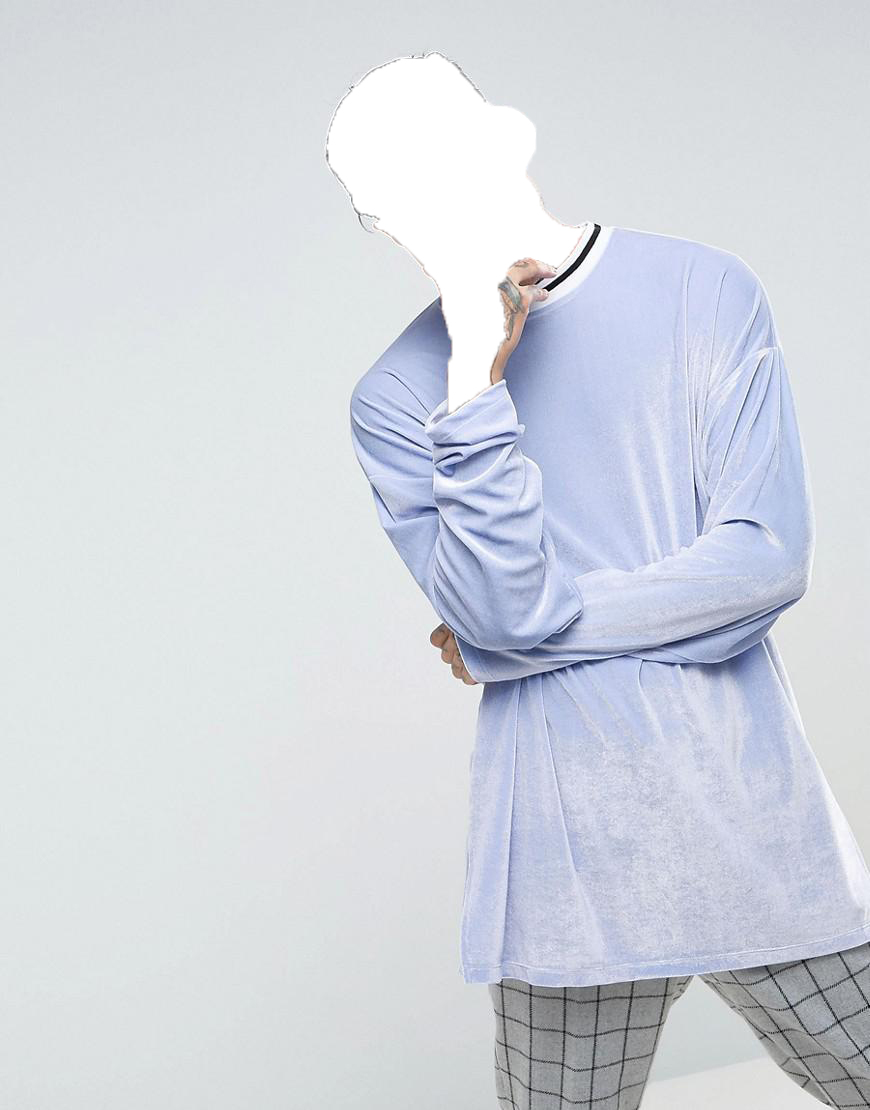teeshirt: (344, 227, 870, 994)
